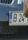2: (18, 13, 22, 23)
4: (22, 13, 25, 23)
B: (13, 13, 17, 22)
